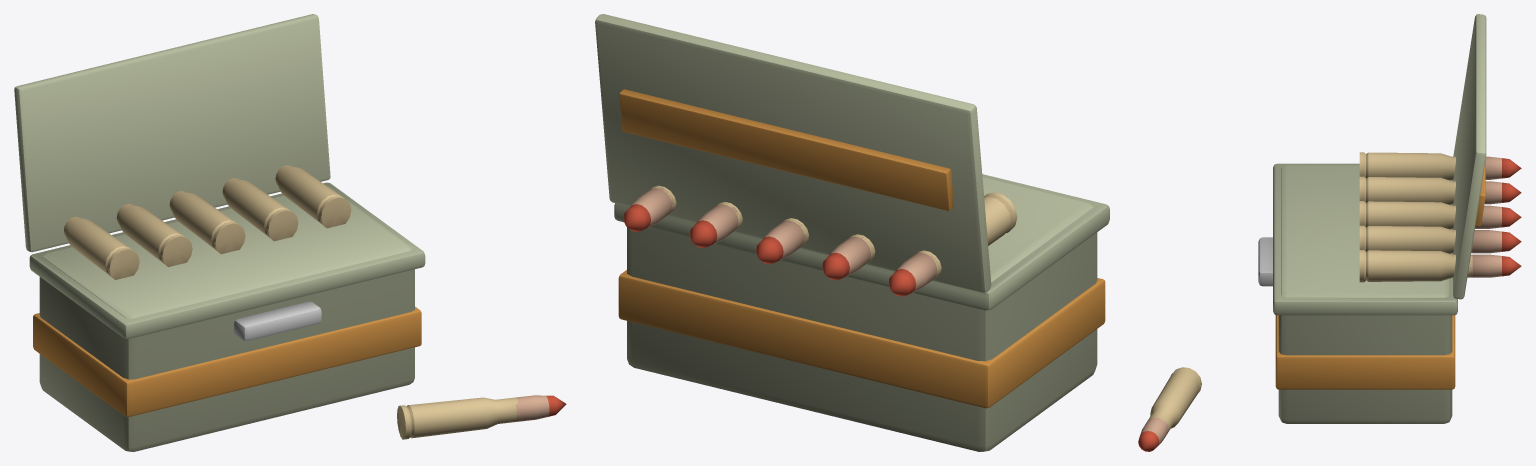
The model's file is rifle-ammo-incendiary.glb.
3 renders of one model, left to right at view 1: azimuth 30°, elevation 25°; view 2: azimuth 150°, elevation 25°; view 3: azimuth 270°, elevation 25°, orthographic. The views are drawn at different scales.
Parts seen in each view (by area): view 1: Body_lod0; view 2: Body_lod0; view 3: Body_lod0.
Part boxes in pixels (x1,y1,x2,y2): Body_lod0: (14, 14, 566, 451); Body_lod0: (595, 14, 1109, 451); Body_lod0: (1138, 14, 1521, 451).
Size of what is drawn, in the model's own units: 0.1411 by 0.1059 by 0.1326.
